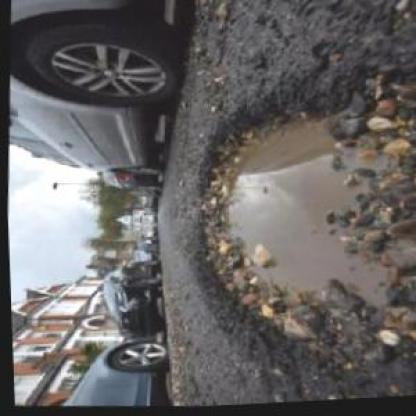pothole: (173, 51, 415, 374)
